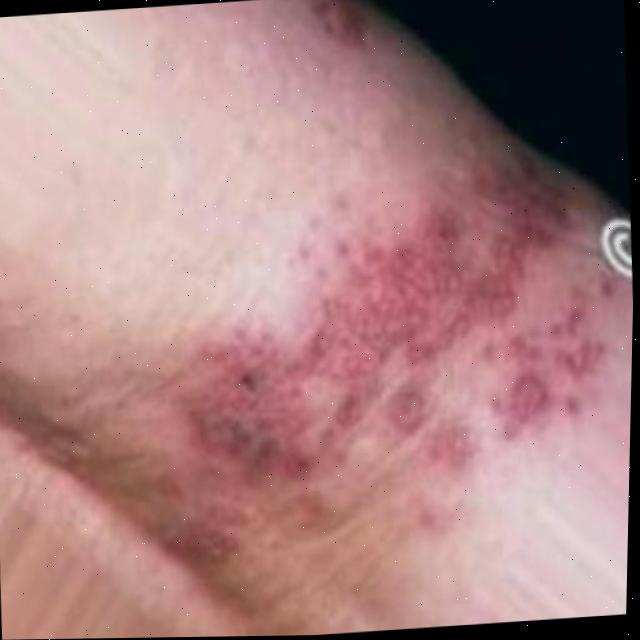Shingles: (187, 192, 600, 488)
